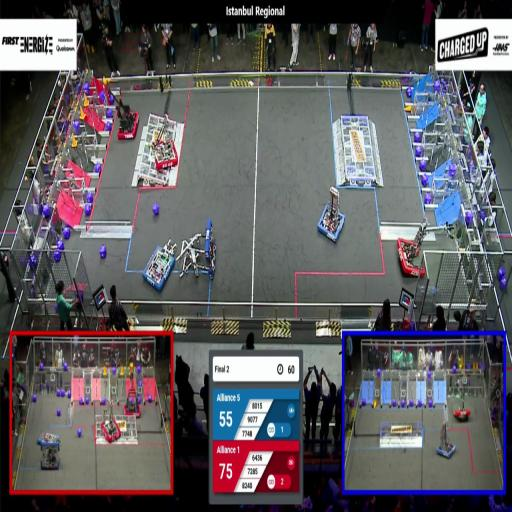robot: (175, 214, 219, 284), (394, 218, 431, 278), (106, 84, 142, 143), (314, 187, 347, 244), (141, 238, 178, 288), (152, 116, 180, 171), (36, 429, 64, 474), (434, 420, 457, 464), (124, 368, 143, 419), (100, 398, 122, 442), (452, 388, 472, 422)
